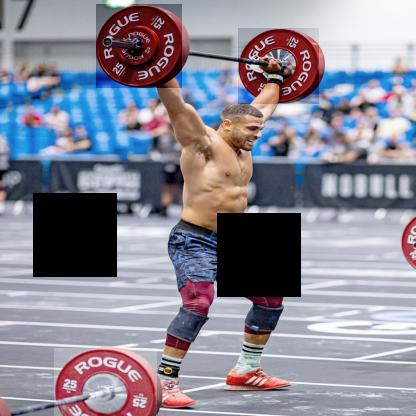barbell: (97, 5, 183, 89), (55, 349, 158, 416), (239, 29, 320, 105)
